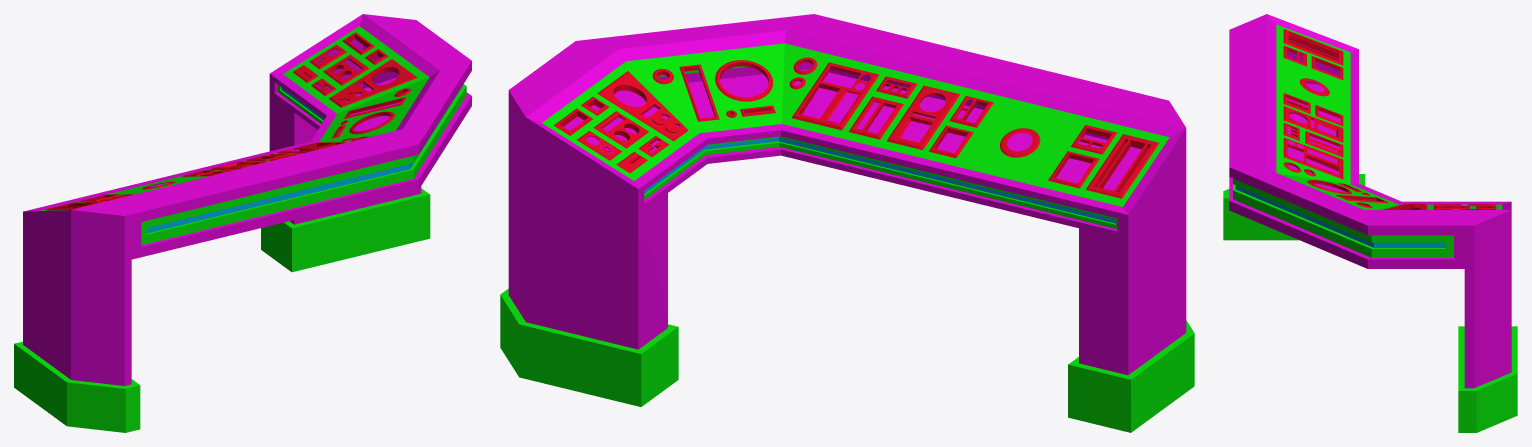
Rendered from PilotConsoleV9.fbx.
3 views of the same model, side by side, from view 1: azimuth 30°, elevation 25°; view 2: azimuth 150°, elevation 25°; view 3: azimuth 270°, elevation 25° (orthographic). The views are drawn at different scales.
Visible parts, largest first — view 1: PilotControlBases, PilotConsoleLightStrip; view 2: PilotControlBases, PilotConsoleLightStrip; view 3: PilotControlBases, PilotConsoleLightStrip.
Part boxes in pixels (x1,y1,x2,y2): PilotControlBases: [14, 14, 471, 432]; PilotConsoleLightStrip: [147, 85, 462, 233]; PilotControlBases: [500, 14, 1194, 432]; PilotConsoleLightStrip: [644, 137, 1115, 223]; PilotControlBases: [1223, 14, 1517, 432]; PilotConsoleLightStrip: [1235, 185, 1445, 247].
Bounding box in the file's own units: 2.9 × 1.28 × 1.66.
